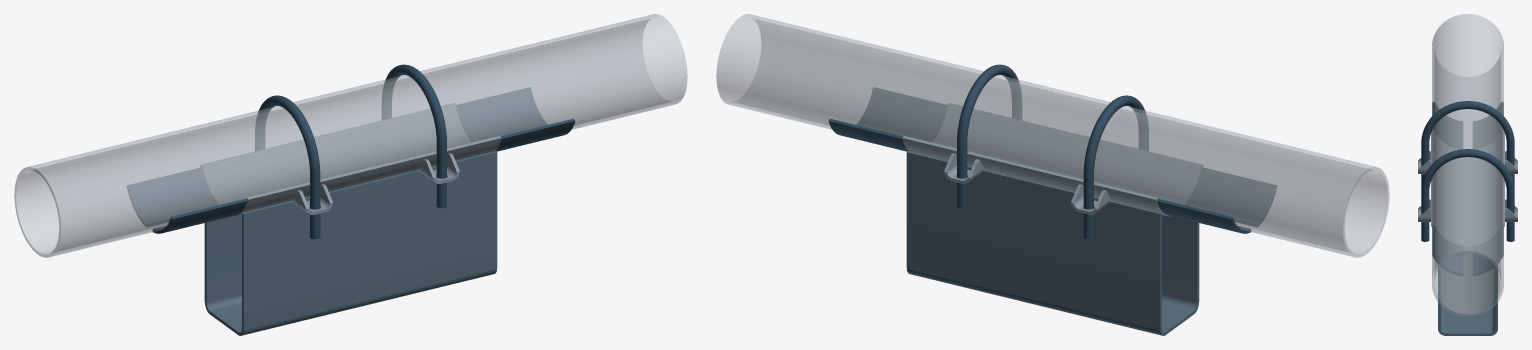
File: TS-670.00.00-10-opora-dn108-H150.glb
3 renders of one model, left to right at view 1: azimuth 30°, elevation 25°; view 2: azimuth 150°, elevation 25°; view 3: azimuth 270°, elevation 25°, orthographic. The views are drawn at different scales.
Visible parts, largest first — view 1: truba, skoba_1, podushka_0, upor_-1_1, upor_1_1, homut_-1, homut_1, upor_-1_-1, upor_1_-1, ushko_5, ushko_7; view 2: truba, skoba_1, podushka_0, upor_-1_-1, upor_1_-1, homut_-1, homut_1, upor_-1_1, upor_1_1, ushko_4, ushko_6; view 3: truba, podushka_0, rebro_3, skoba_1, homut_1, homut_-1, upor_1_1, upor_1_-1, upor_-1_1, upor_-1_-1, ushko_4, ushko_5 (+2 smaller).
Part boxes in pixels (x1=…): truba: x1=14, y1=14, x2=687, y2=257; skoba_1: x1=204, y1=151, x2=497, y2=335; podushka_0: x1=200, y1=103, x2=501, y2=216; upor_-1_1: x1=127, y1=167, x2=218, y2=226; upor_1_1: x1=456, y1=87, x2=547, y2=141; homut_-1: x1=255, y1=95, x2=320, y2=239; homut_1: x1=382, y1=64, x2=446, y2=208; upor_-1_-1: x1=152, y1=199, x2=246, y2=233; upor_1_-1: x1=495, y1=118, x2=575, y2=151; ushko_5: x1=420, y1=153, x2=459, y2=183; ushko_7: x1=293, y1=184, x2=332, y2=214; truba: x1=716, y1=14, x2=1389, y2=257; skoba_1: x1=906, y1=151, x2=1199, y2=335; podushka_0: x1=902, y1=103, x2=1203, y2=216; upor_-1_-1: x1=1185, y1=167, x2=1276, y2=226; upor_1_-1: x1=856, y1=87, x2=947, y2=141; homut_-1: x1=1083, y1=95, x2=1148, y2=239; homut_1: x1=957, y1=64, x2=1021, y2=208; upor_-1_1: x1=1157, y1=199, x2=1251, y2=233; upor_1_1: x1=828, y1=118, x2=908, y2=151; ushko_4: x1=944, y1=153, x2=983, y2=183; ushko_6: x1=1071, y1=184, x2=1110, y2=214; truba: x1=1432, y1=14, x2=1503, y2=316; podushka_0: x1=1431, y1=129, x2=1504, y2=248; rebro_3: x1=1441, y1=249, x2=1494, y2=309; skoba_1: x1=1438, y1=264, x2=1497, y2=335; homut_1: x1=1421, y1=149, x2=1514, y2=241; homut_-1: x1=1421, y1=101, x2=1514, y2=187; upor_1_1: x1=1472, y1=226, x2=1503, y2=276; upor_1_-1: x1=1432, y1=226, x2=1463, y2=276; upor_-1_1: x1=1473, y1=102, x2=1503, y2=149; upor_-1_-1: x1=1432, y1=102, x2=1462, y2=149; ushko_4: x1=1505, y1=199, x2=1517, y2=221; ushko_5: x1=1418, y1=199, x2=1430, y2=221.
Bounding box in the file's own units: 840 × 268 × 149.
